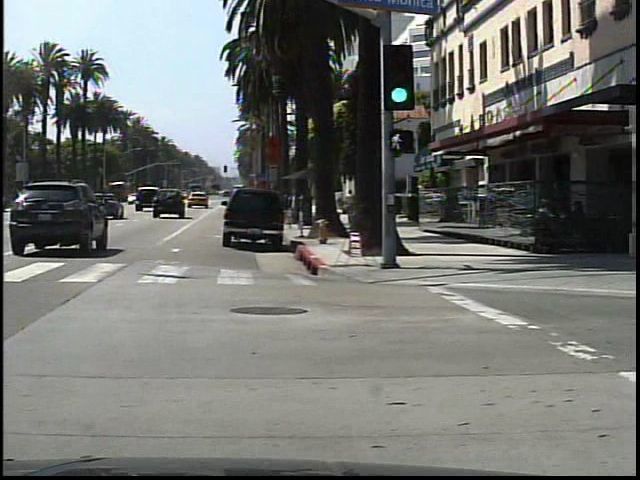person: (345, 184, 358, 226)
